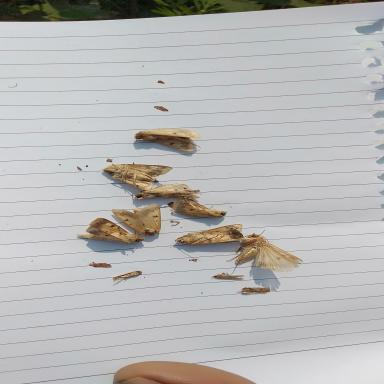abw: (227, 230, 302, 273), (74, 215, 146, 245), (100, 164, 174, 190), (172, 222, 250, 246), (132, 127, 202, 153), (111, 203, 162, 235), (129, 181, 204, 201), (166, 198, 230, 220)
pbw: (109, 270, 144, 285), (209, 273, 247, 281), (236, 286, 272, 294)
